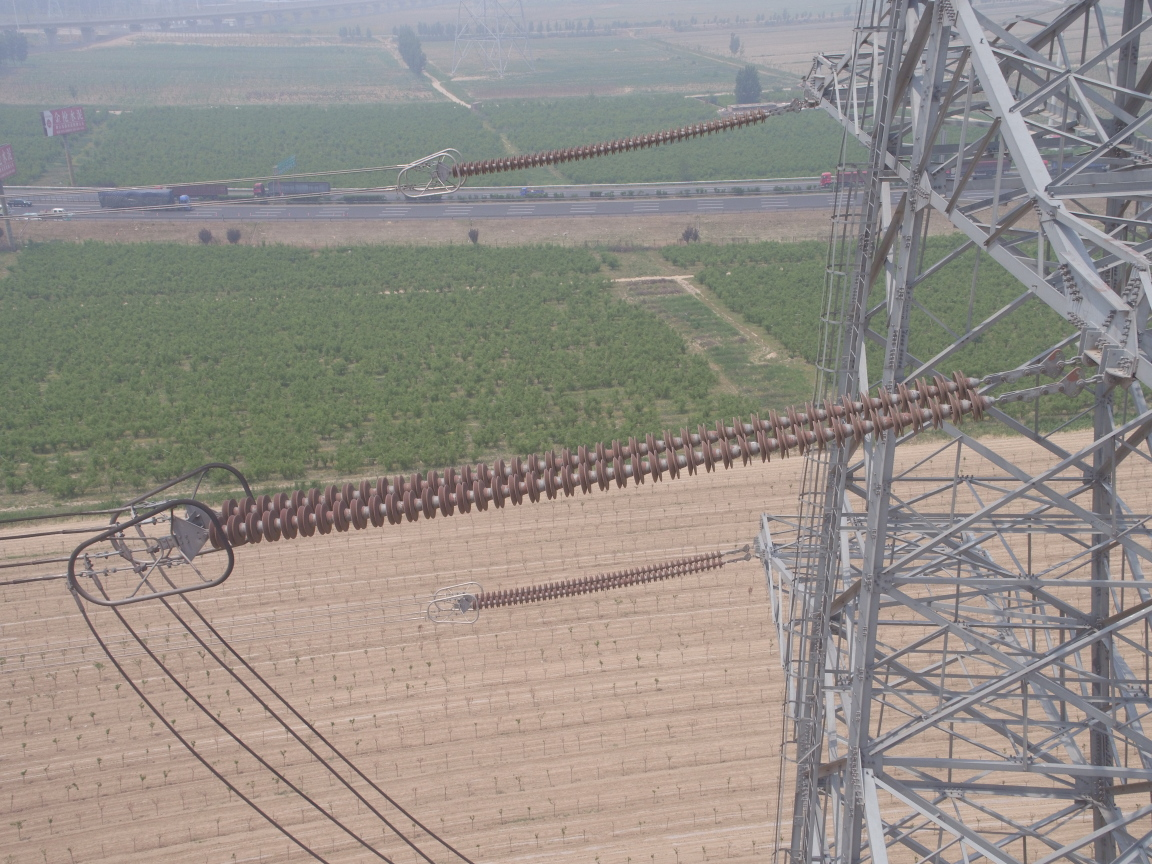insulator: (192, 364, 1032, 557), (444, 104, 789, 181), (467, 547, 739, 613)
